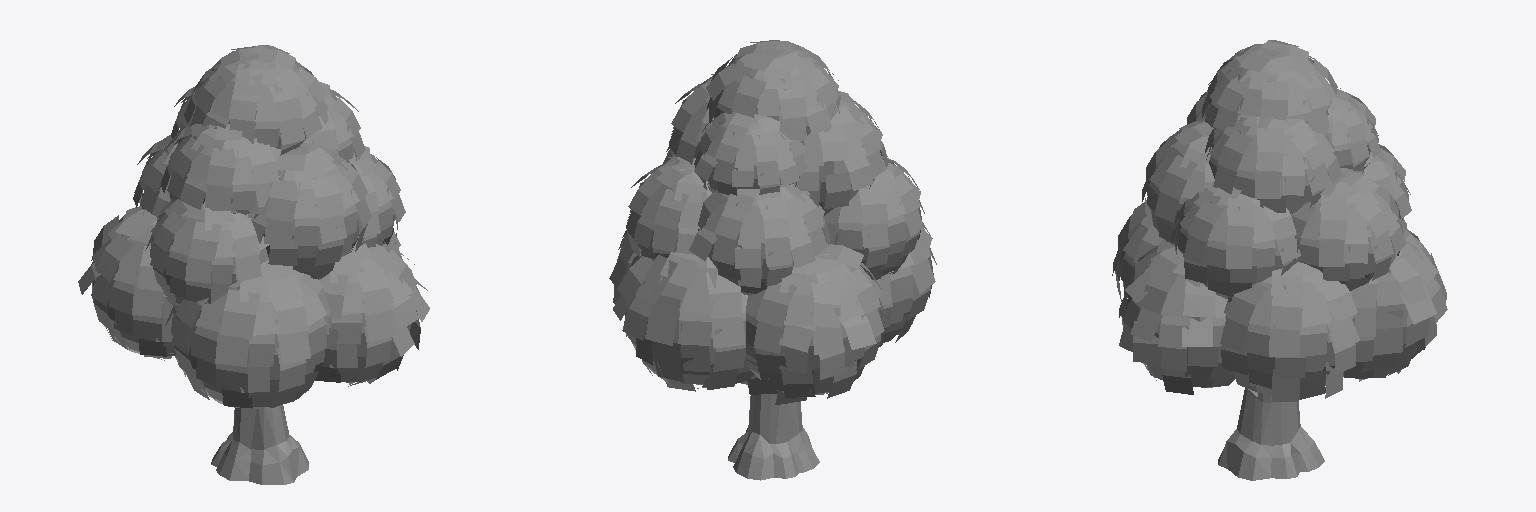
File: Tree000 1.obj
The picture shows the model from 3 angles: view 1: azimuth 30°, elevation 25°; view 2: azimuth 150°, elevation 25°; view 3: azimuth 270°, elevation 25°; orthographic projection.
Parts seen in each view (by area): view 1: Tree__TreeLeaf00, Tree__TreeBark01, Tree__TreeLeaf01_rep; view 2: Tree__TreeLeaf00, Tree__TreeBark01, Tree__TreeLeaf01_rep; view 3: Tree__TreeLeaf00, Tree__TreeBark01, Tree__TreeLeaf01_rep.
Part boxes in pixels (x1,y1,x2,y2): Tree__TreeLeaf00: (78,45,429,408); Tree__TreeBark01: (211,405,308,484); Tree__TreeLeaf01_rep: (108,60,411,389); Tree__TreeLeaf00: (609,40,936,404); Tree__TreeBark01: (728,394,819,480); Tree__TreeLeaf01_rep: (621,50,913,384); Tree__TreeLeaf00: (1112,40,1447,401); Tree__TreeBark01: (1218,388,1324,480); Tree__TreeLeaf01_rep: (1119,59,1420,370).
Bounding box in the file's own units: 7.92 × 11.02 × 8.13.